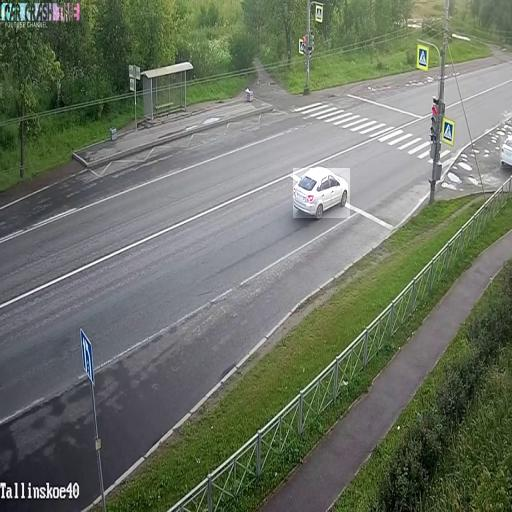小汽车: (293, 168, 350, 218), (500, 134, 512, 168)
